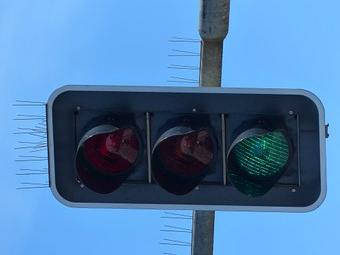trafic: (62, 97, 303, 203)
